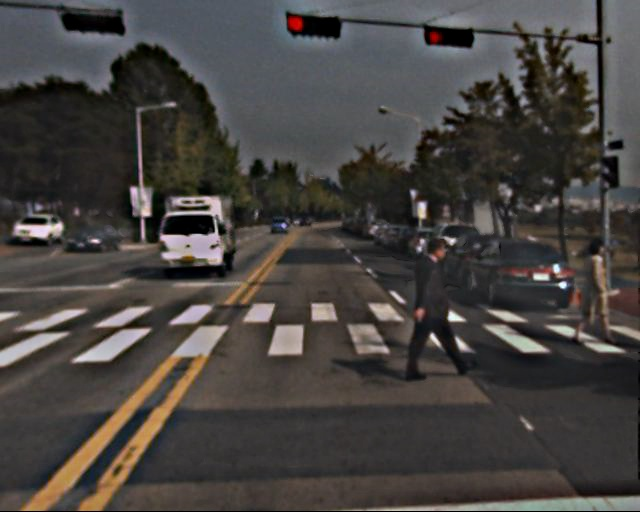person: (402, 240, 459, 380), (573, 240, 615, 342)
